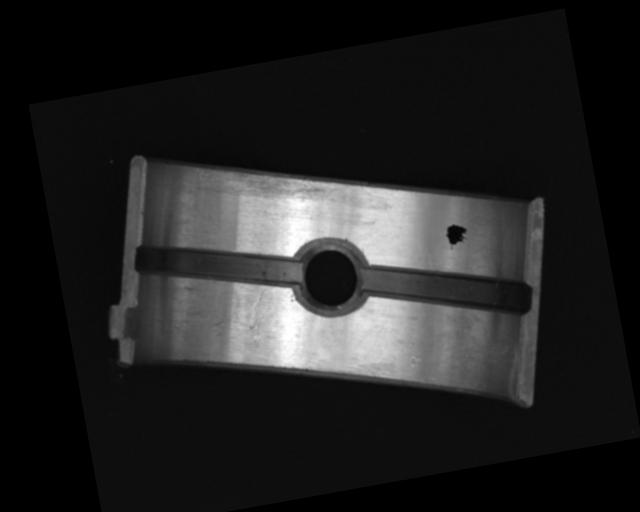blot: (442, 220, 471, 250)
bruise: (209, 317, 232, 339), (407, 353, 421, 369)
gap: (357, 238, 531, 339), (130, 219, 304, 311)
hole: (286, 230, 373, 322)
nick: (241, 284, 274, 344)
scratch: (191, 142, 343, 222)
